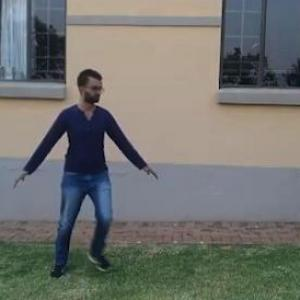land: (14, 74, 148, 251)
